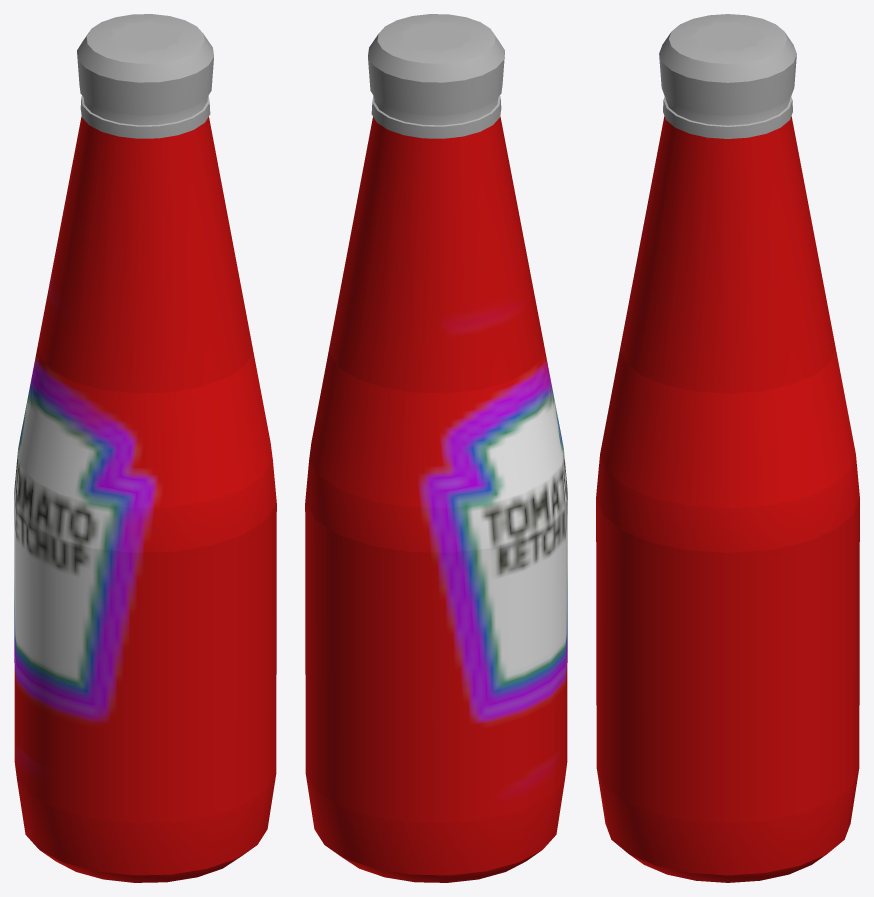
Rendered from Ketchup Glass Container.fbx.
The picture shows the model from 3 angles, left to right: view 1: azimuth 30°, elevation 25°; view 2: azimuth 150°, elevation 25°; view 3: azimuth 270°, elevation 25°; orthographic projection.
Parts seen in each view (by area): view 1: Ketchup_Glass_Container; view 2: Ketchup_Glass_Container; view 3: Ketchup_Glass_Container.
Part boxes in pixels (left/top/right/bottom): Ketchup_Glass_Container: left=14, top=14, right=276, bottom=882; Ketchup_Glass_Container: left=305, top=14, right=567, bottom=882; Ketchup_Glass_Container: left=596, top=14, right=859, bottom=882.
Size of the model in its own units: 7.87 by 26.39 by 7.86.
Materials: 1 (1 with a texture image).
